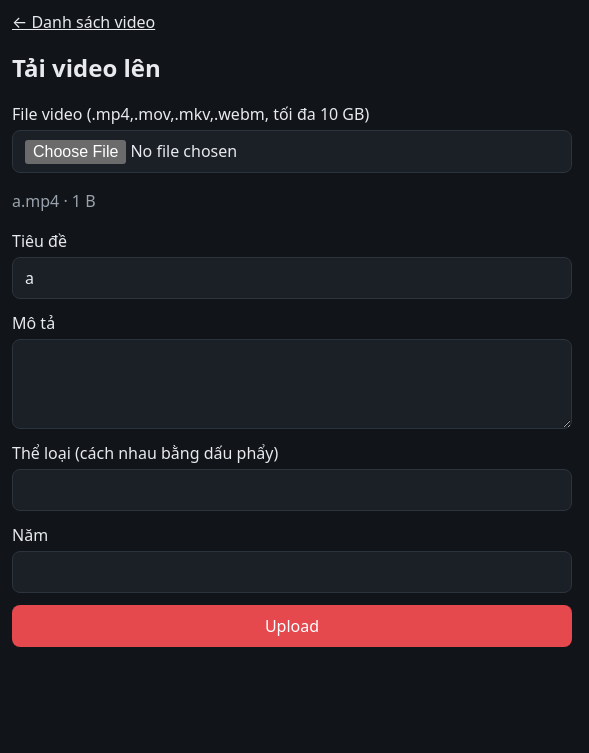
Scenario: AdminUploadPage › upload lỗi sau khi đã tạo video: cho xoá video dở
Earlier steps of the test are not shown.
Click the button "Upload": (292, 626) [12,605,572,647]
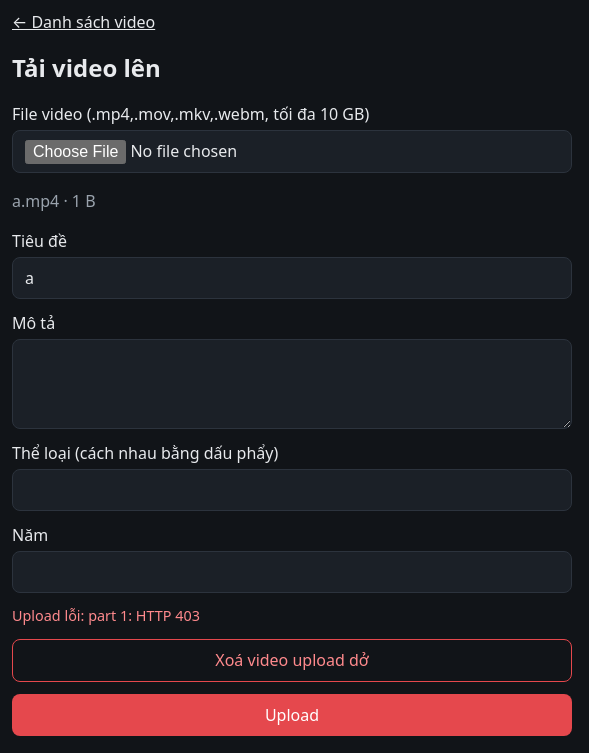
Check: the message reads "Upload lỗi: part 1: HTTP 403", box [12,606,200,625]
Click the button "Xoá video upload dở": (292, 660) [12,639,572,682]
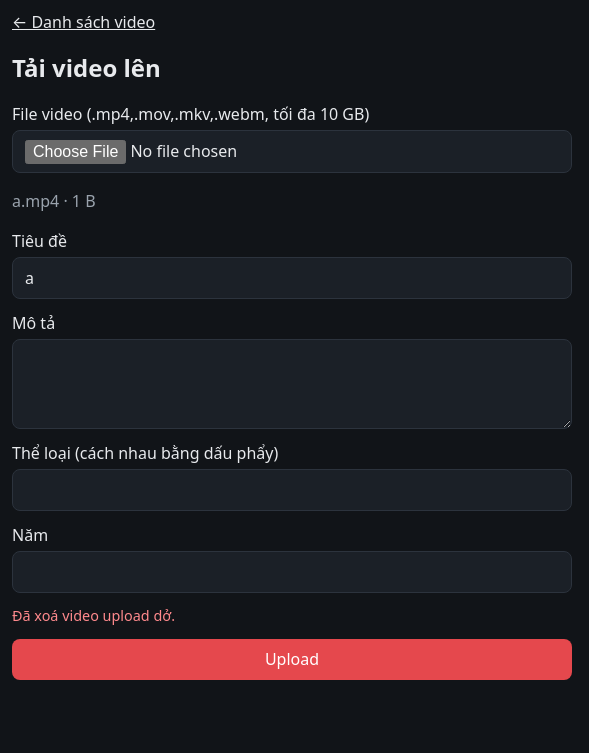
Check: the text "Đã xoá video upload dở." is shown, box [12,606,175,625]
